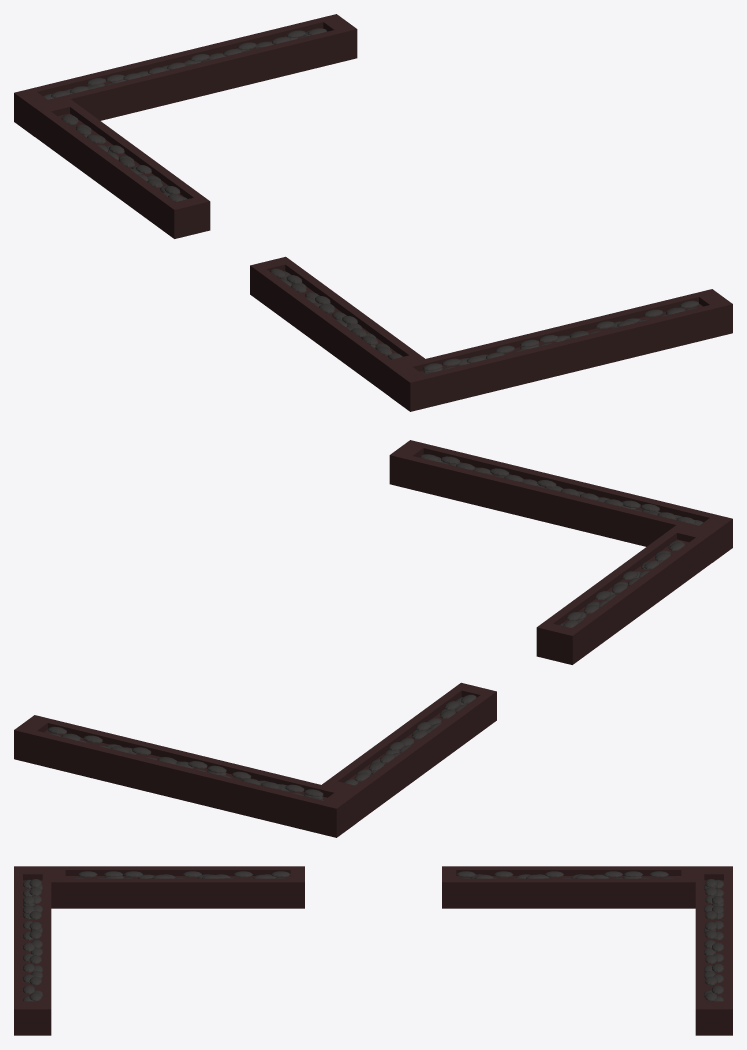
The model's file is Fire_Pit.fbx.
The picture shows the model from 3 angles, top to bottom: view 1: azimuth 30°, elevation 25°; view 2: azimuth 150°, elevation 25°; view 3: azimuth 270°, elevation 25°; orthographic projection. The views are drawn at different scales.
Visible parts, largest first — view 1: pCube8, pCube7; view 2: pCube7, pCube8; view 3: pCube7, pCube8.
Boxes of the visible parts, x1,y1,x2,y2 form: pCube8: (250,256,732,411); pCube7: (14,14,357,238); pCube7: (14,682,496,837); pCube8: (389,440,732,664); pCube7: (442,866,732,1035); pCube8: (14,866,304,1035).
Size of the model in its own units: 72.73 by 6.53 by 155.
